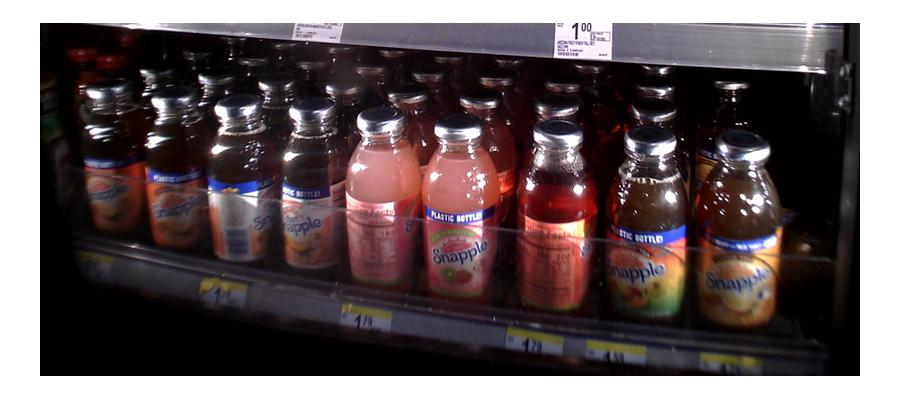bottle: (697, 131, 780, 333), (608, 120, 687, 324), (516, 120, 596, 315), (422, 113, 499, 302), (347, 106, 417, 298), (206, 95, 275, 276), (143, 73, 210, 254), (279, 96, 345, 279), (79, 68, 144, 240)
